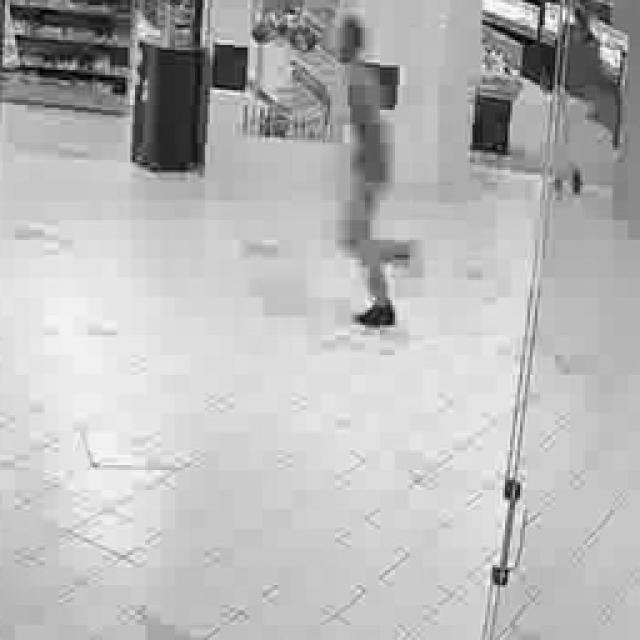Invader: (320, 10, 412, 328)
